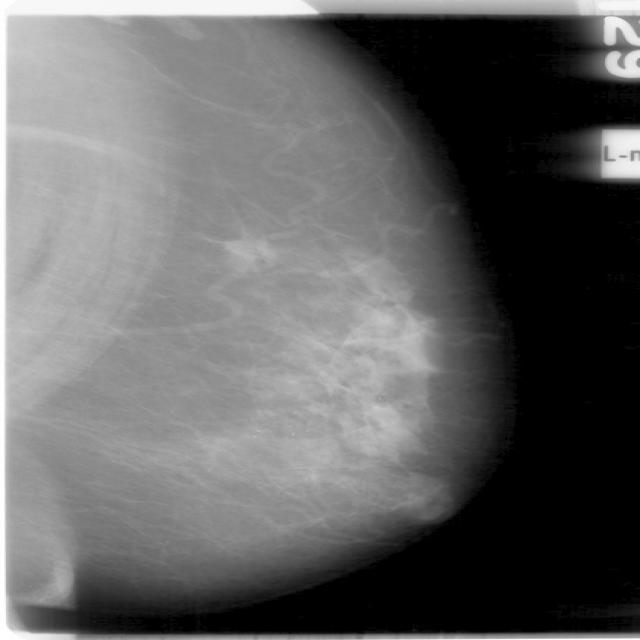tumour: (220, 237, 273, 267)
